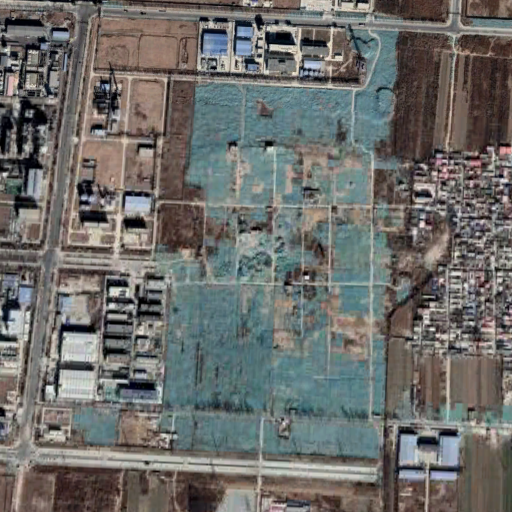cw: (159, 16, 402, 473), (67, 402, 120, 446)
